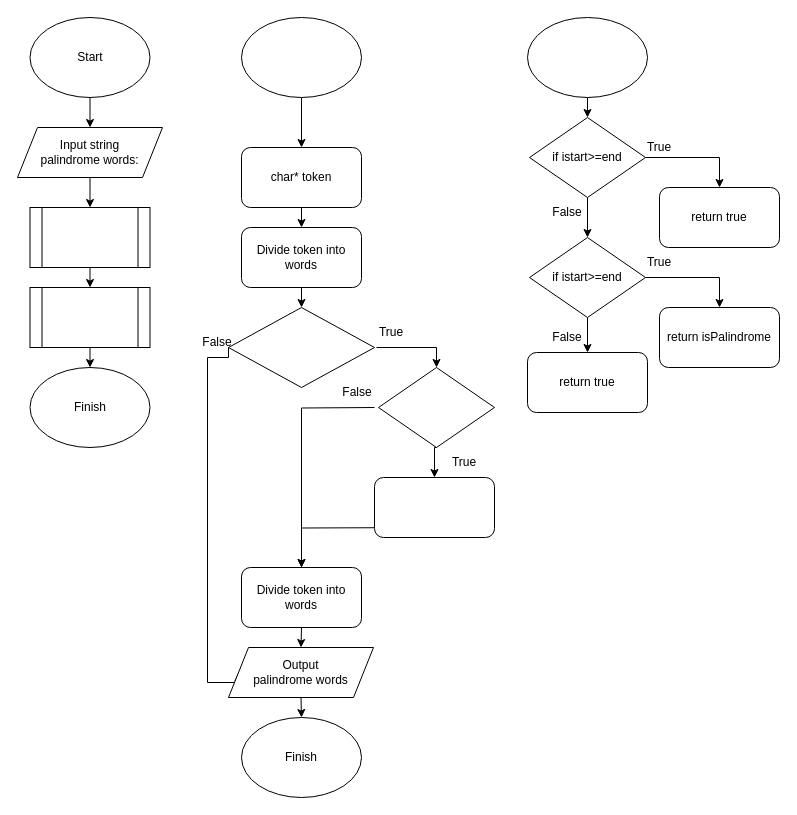
Some shapes in this 797 by 815 pixel diagram are drawn without their labels. Here are the shapes that lost their labels. From the top down, the centre of each, then its label:
point 301,57: Start isWord
point 587,57: Start isPalindrome
point 89,237: bool isWord
point 89,317: bool isPalindrome
point 301,347: while token != null
point 436,407: if isPalindrome
point 434,507: palindrome words += token
